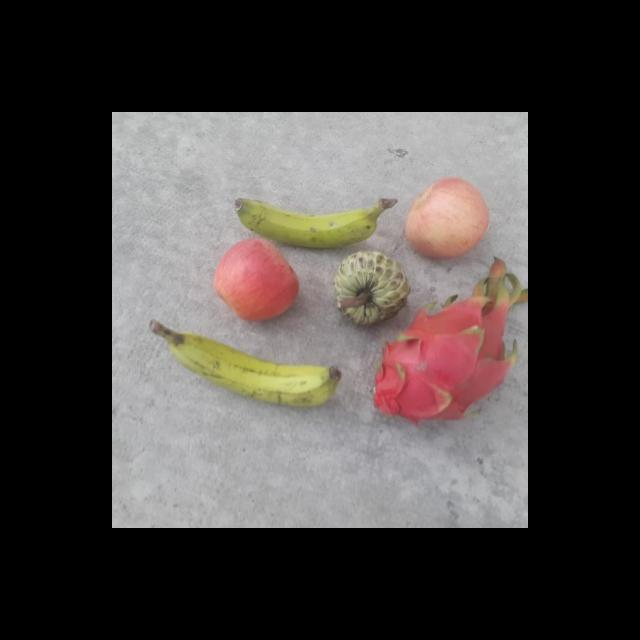Sakya fruit: (328, 251, 408, 328)
apple: (211, 238, 300, 322), (404, 177, 492, 259)
banana: (176, 320, 344, 416), (234, 196, 400, 250)
pitaya: (370, 293, 516, 428)
